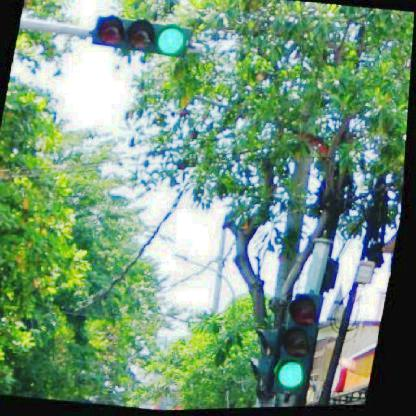Traffic Light -Green-: (274, 292, 330, 398), (90, 13, 192, 58)
